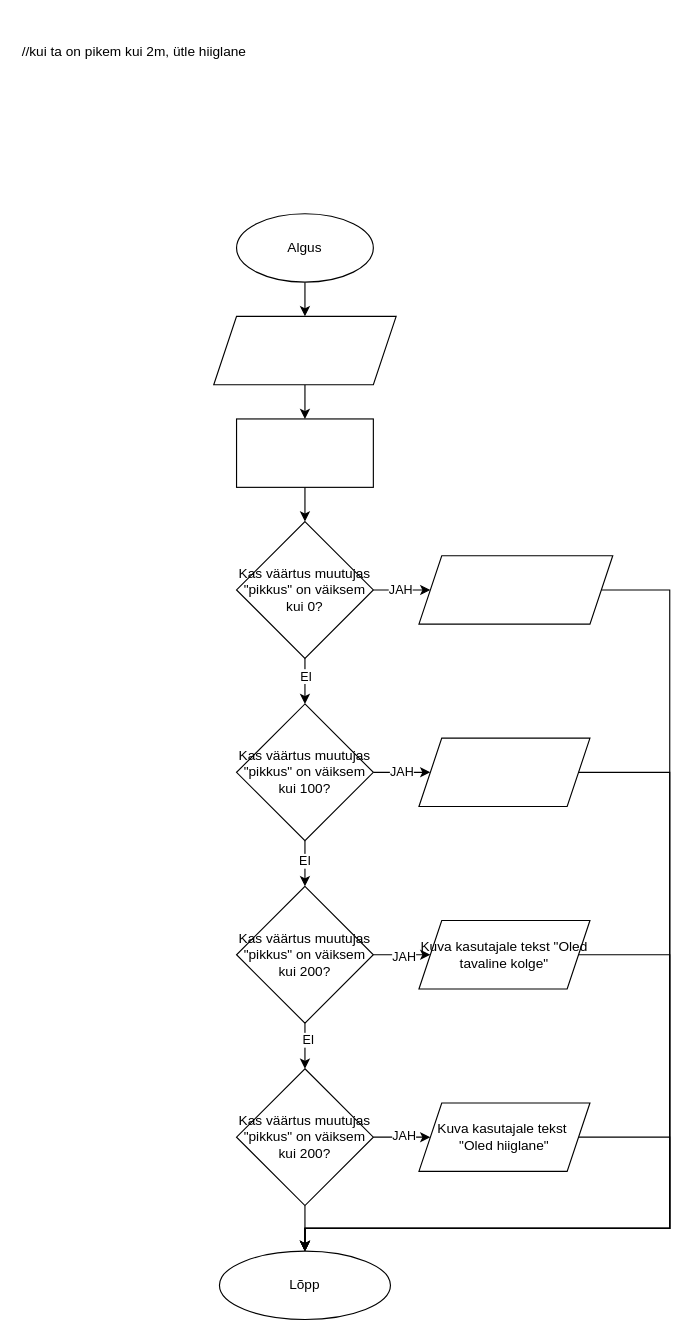
The diagram is 699 pixels wide and 1340 high, and some of its shapes have lost their labels. The shapes that lost their labels are listed below. From the top down, each one's centre as x and y in pixels, then its label:
(x=304, y=350): Kuva kasutajale tekst "kui pikk sa oled? sisesta meetrides"
(x=304, y=452): Oota kuni kasutaja sisestasb oma pikkuse
(x=515, y=589): Kuva kasutajale tekst "Selline pikkus on võimatu"
(x=504, y=772): Kuva kasutajale tekst "Oled Juntsu, hit the gym"
